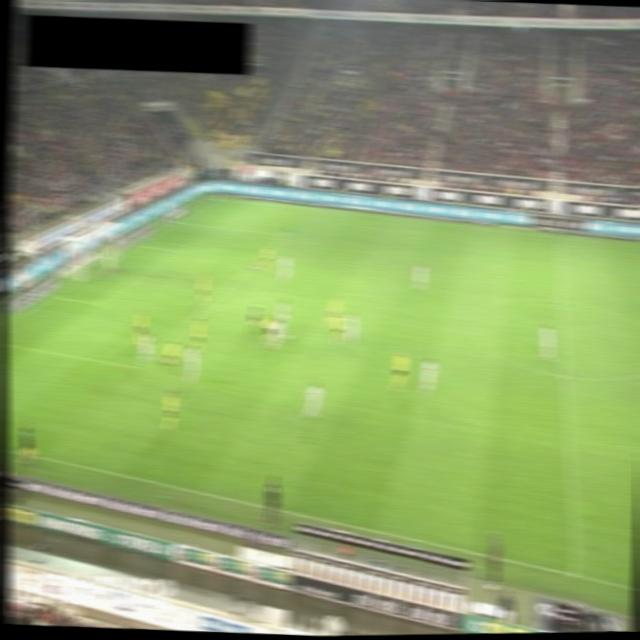bigarea_bottom_inner: (131, 360, 148, 372)
bigarea_top_inner: (278, 227, 295, 240)
bigarea_top_outter: (169, 214, 185, 227)
bottom_arc_area_intersection: (193, 303, 210, 316)
corner: (208, 192, 226, 204)
halfcircle_bottom: (557, 369, 573, 381)
halfcircle_top: (553, 295, 570, 307)
midline_bottom_intersection: (567, 567, 583, 579)
midline_top_intersection: (550, 225, 567, 238)
smallarea_bottom_inner: (89, 296, 106, 308)
smallarea_bottom_outter: (45, 289, 61, 302)
smallarea_top_inner: (168, 243, 184, 255)
smallarea_top_outter: (132, 237, 149, 250)
top_arc_area_intersection: (245, 258, 261, 271)
